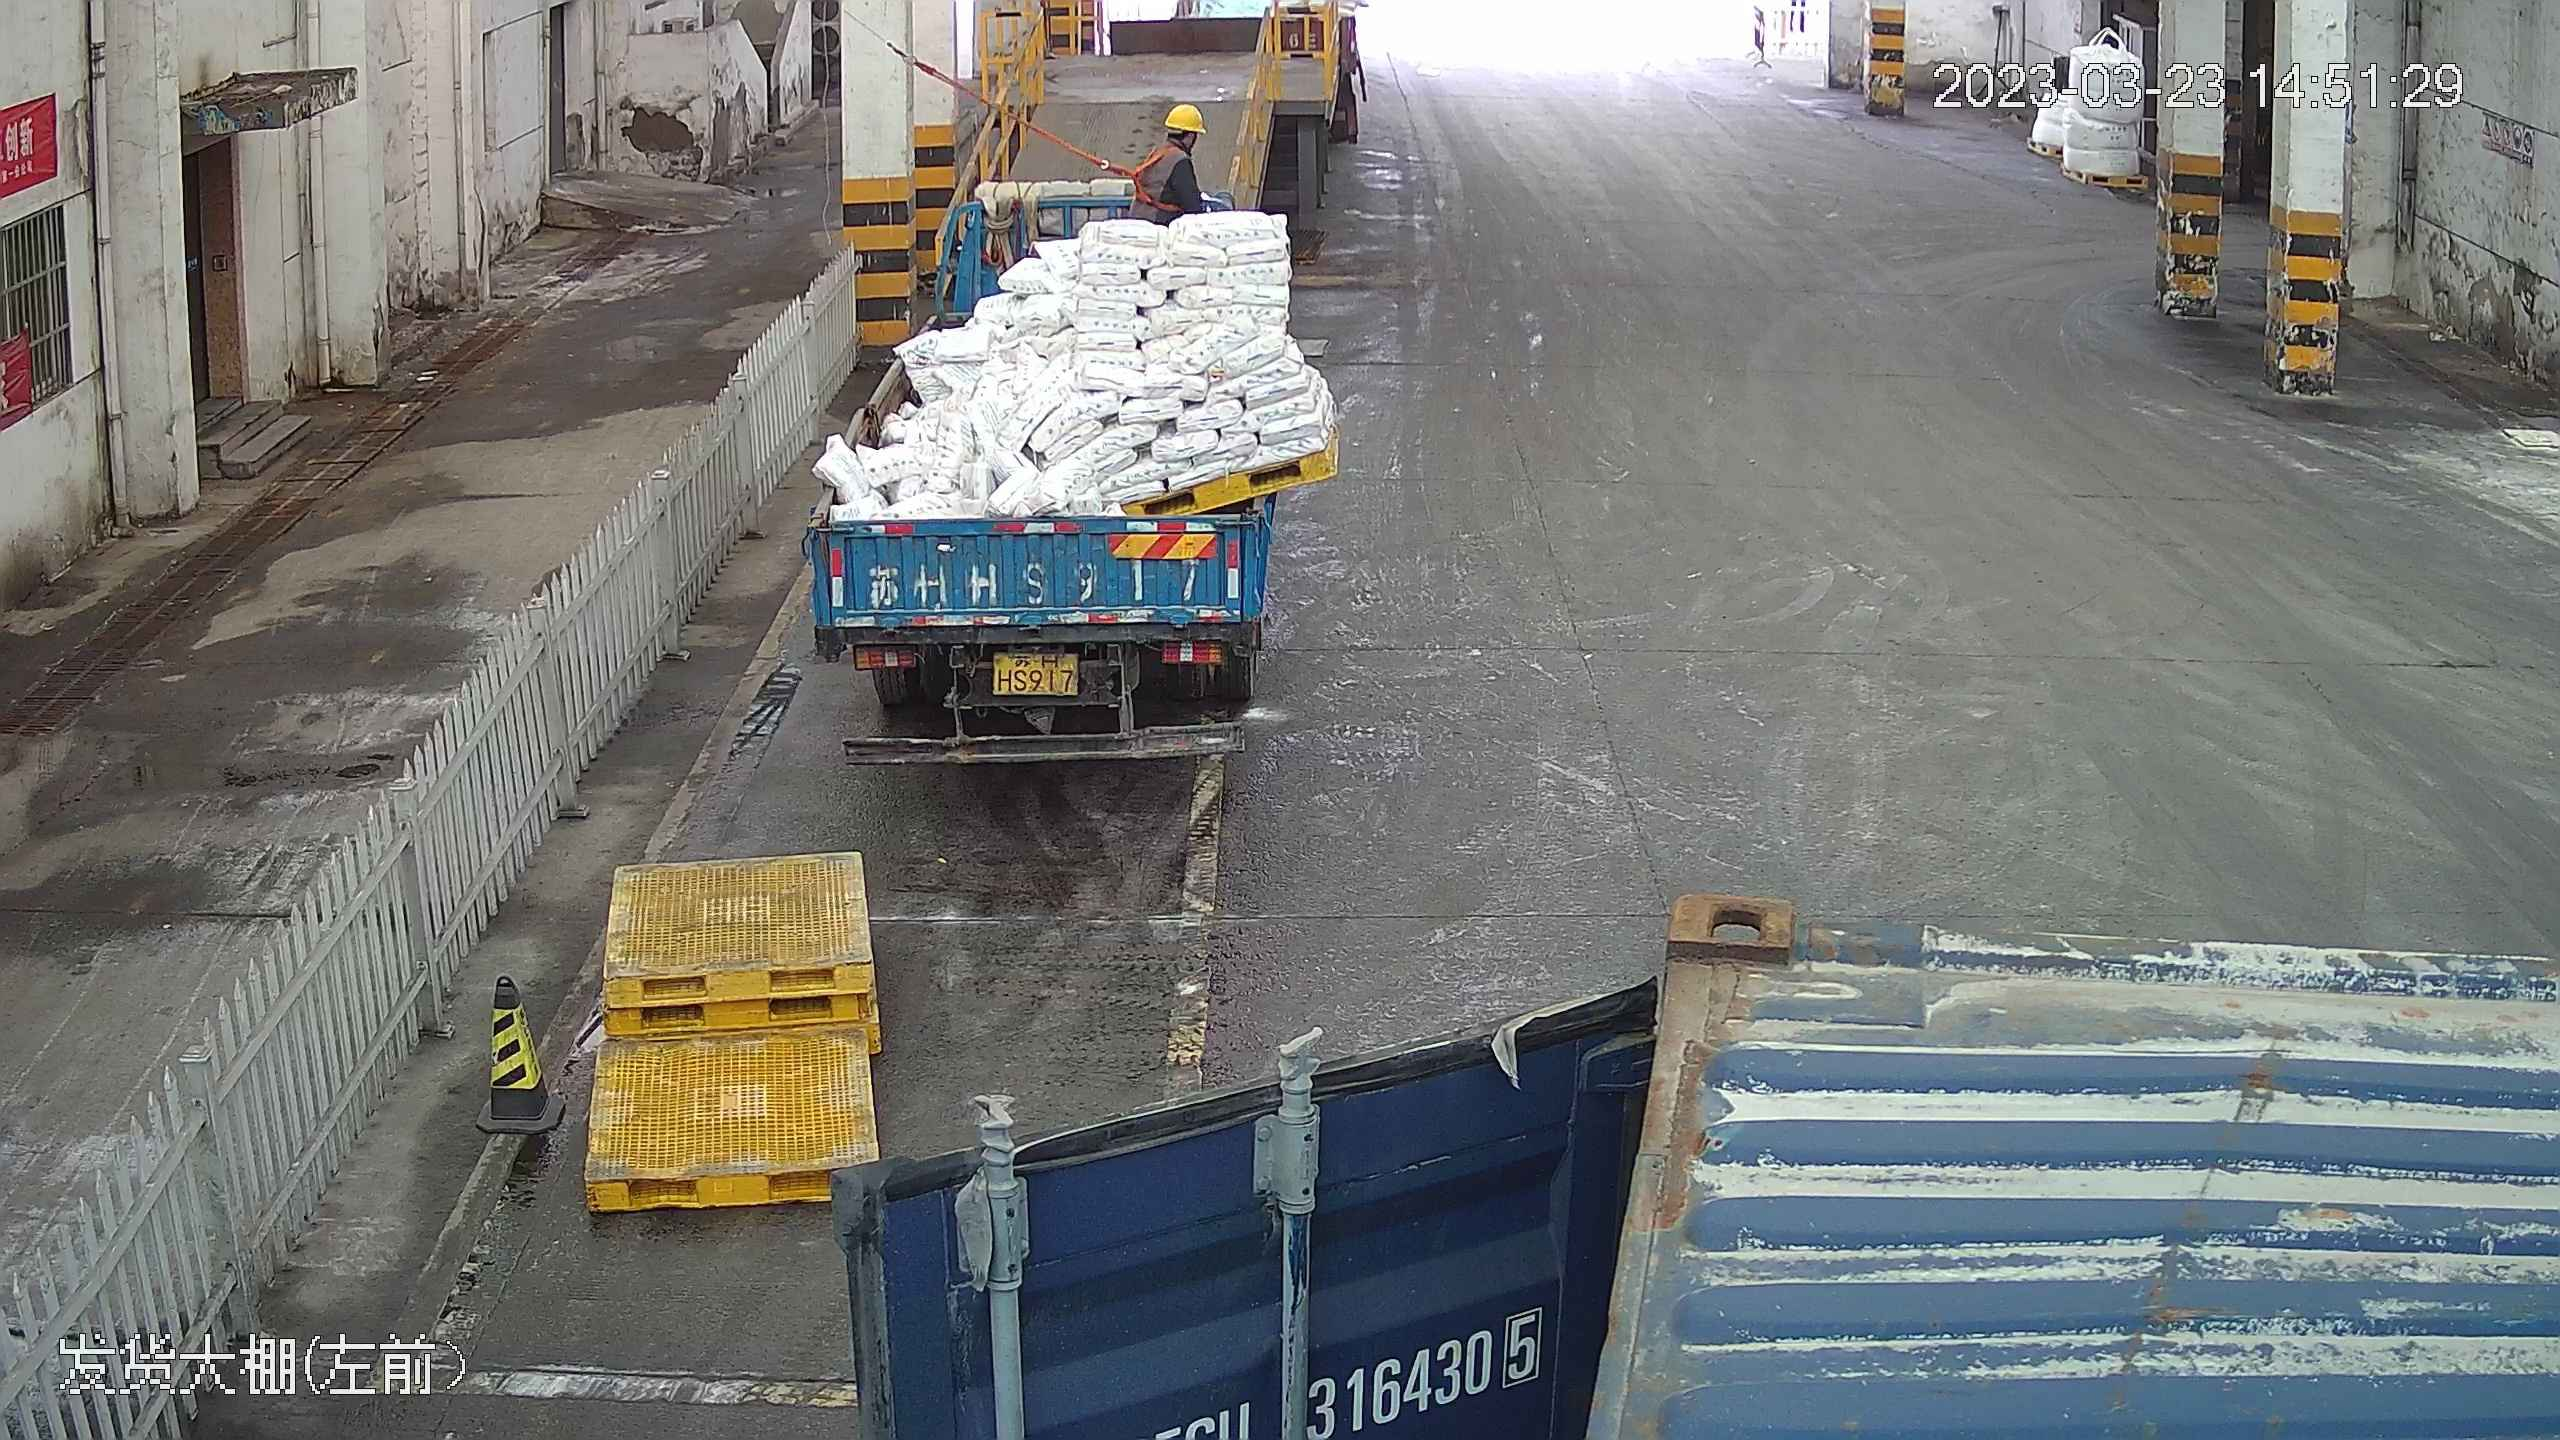belt: (1121, 144, 1182, 208)
head: (1134, 100, 1208, 188)
helmet: (1162, 101, 1207, 133)
truck: (802, 29, 1337, 757)
